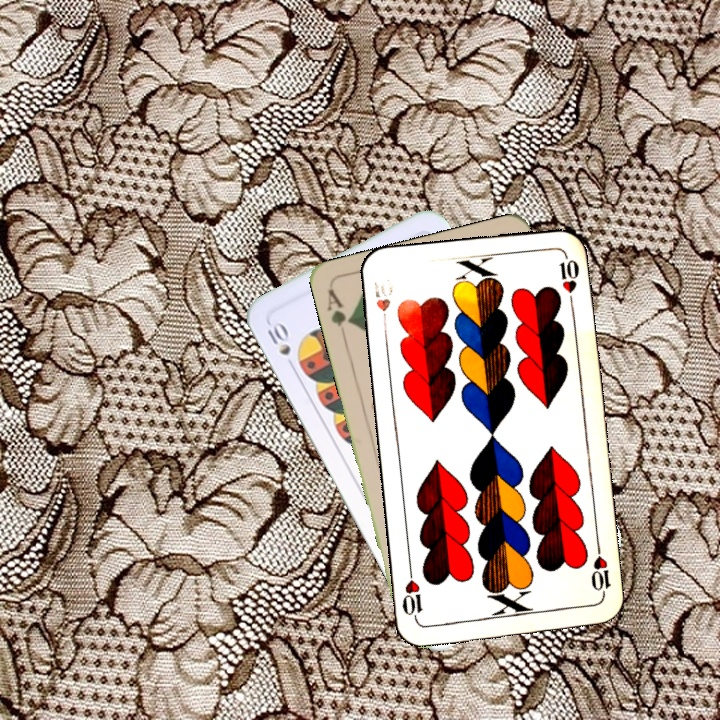GA: (323, 285, 356, 343)
H10: (586, 542, 613, 601), (369, 278, 396, 331)
S10: (263, 317, 298, 373)
